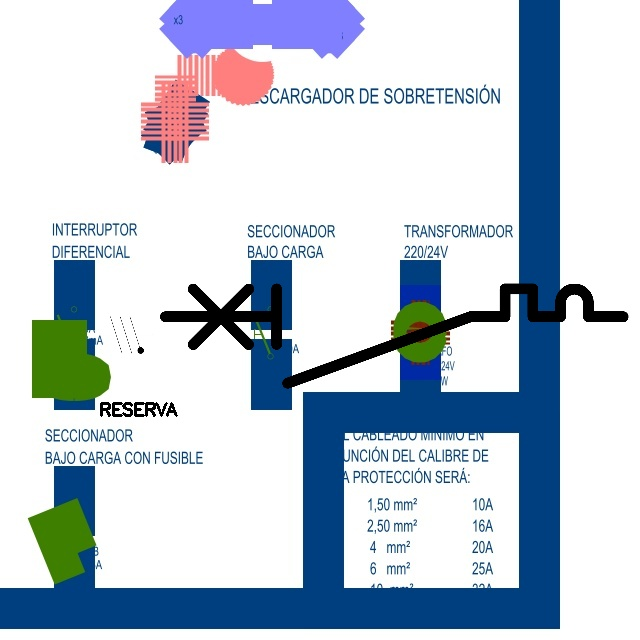interruptor_termomagnetico: (153, 277, 634, 395)
